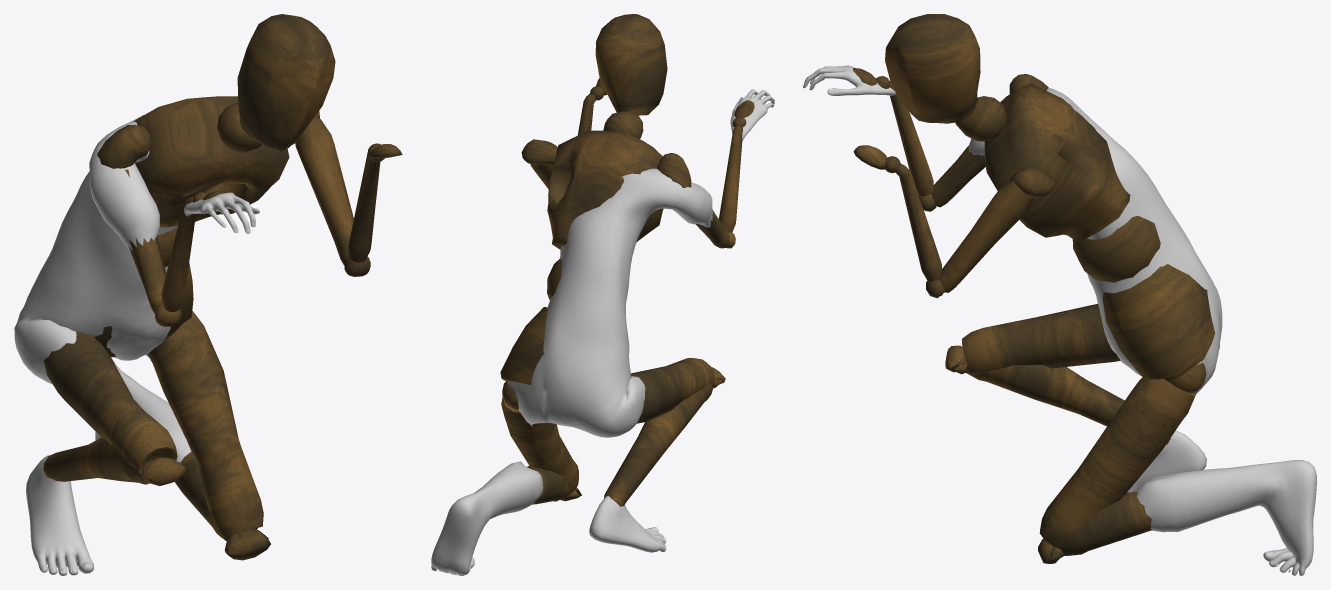
The model's file is enemigo1_pose2.fbx.
3 views of the same model, side by side, from view 1: azimuth 30°, elevation 25°; view 2: azimuth 150°, elevation 25°; view 3: azimuth 270°, elevation 25° (orthographic). The views are drawn at different scales.
Visible parts, largest first — view 1: dummy_obj.003, Body.004; view 2: dummy_obj.003, Body.004; view 3: dummy_obj.003, Body.004.
Part boxes in pixels (x1,y1,x2,y2): dummy_obj.003: [43, 14, 402, 560]; Body.004: [14, 115, 259, 575]; dummy_obj.003: [500, 14, 754, 506]; Body.004: [431, 89, 774, 575]; dummy_obj.003: [853, 14, 1214, 563]; Body.004: [803, 65, 1316, 575].
Size of the model in its own units: 42.83 by 104 by 90.05.
